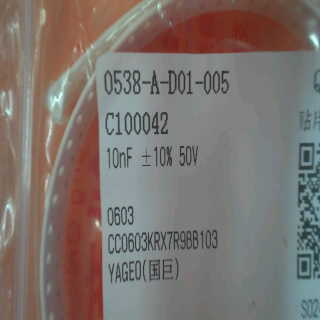10nF: (101, 144, 138, 171)
